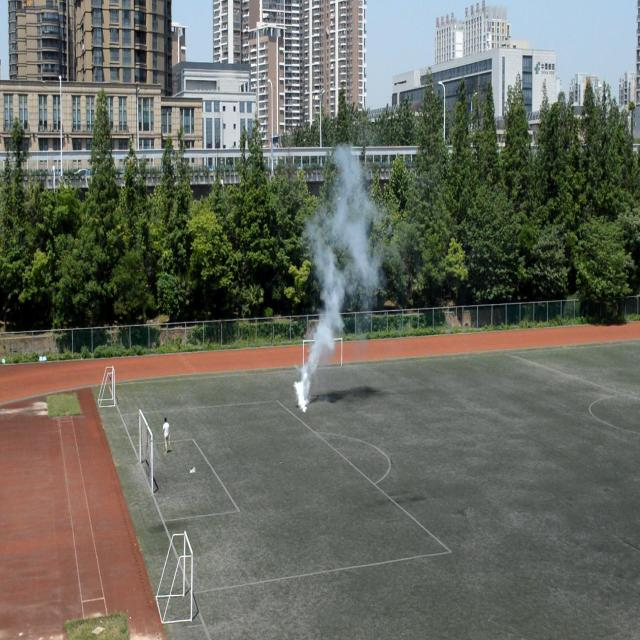smoke: (294, 143, 384, 412)
